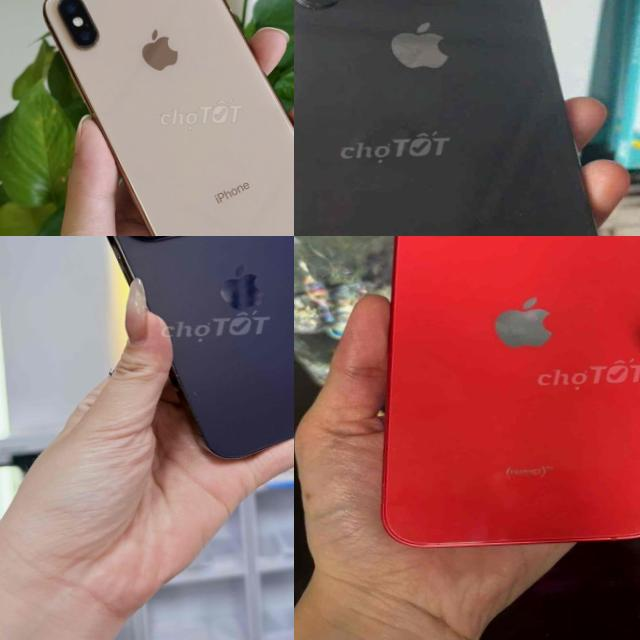gen_11: (364, 236, 640, 555)
gen_14: (74, 236, 294, 466)
gen_x_xs: (294, 0, 639, 236), (39, 0, 294, 236)
